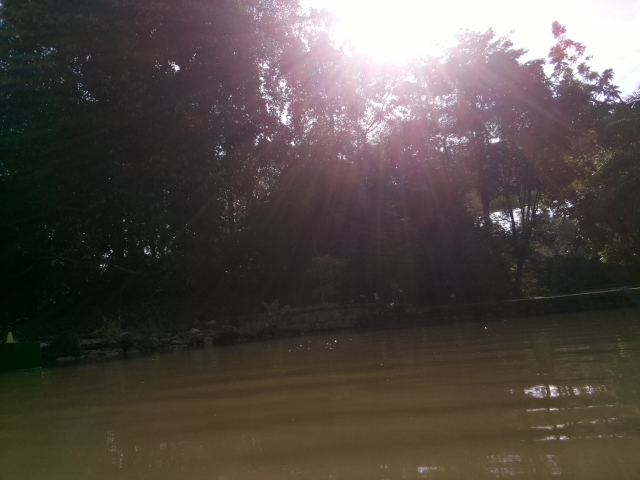checkpoint: (3, 328, 18, 342)
obstacle: (1, 342, 40, 371)
